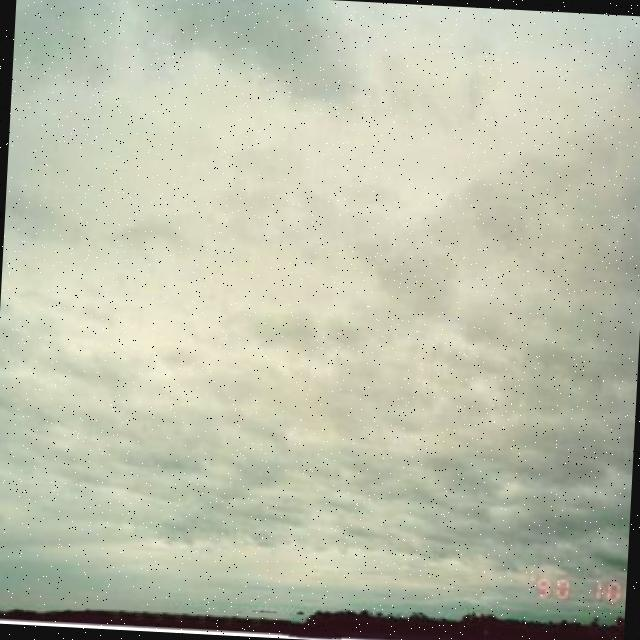Ns: (1, 39, 640, 534)
